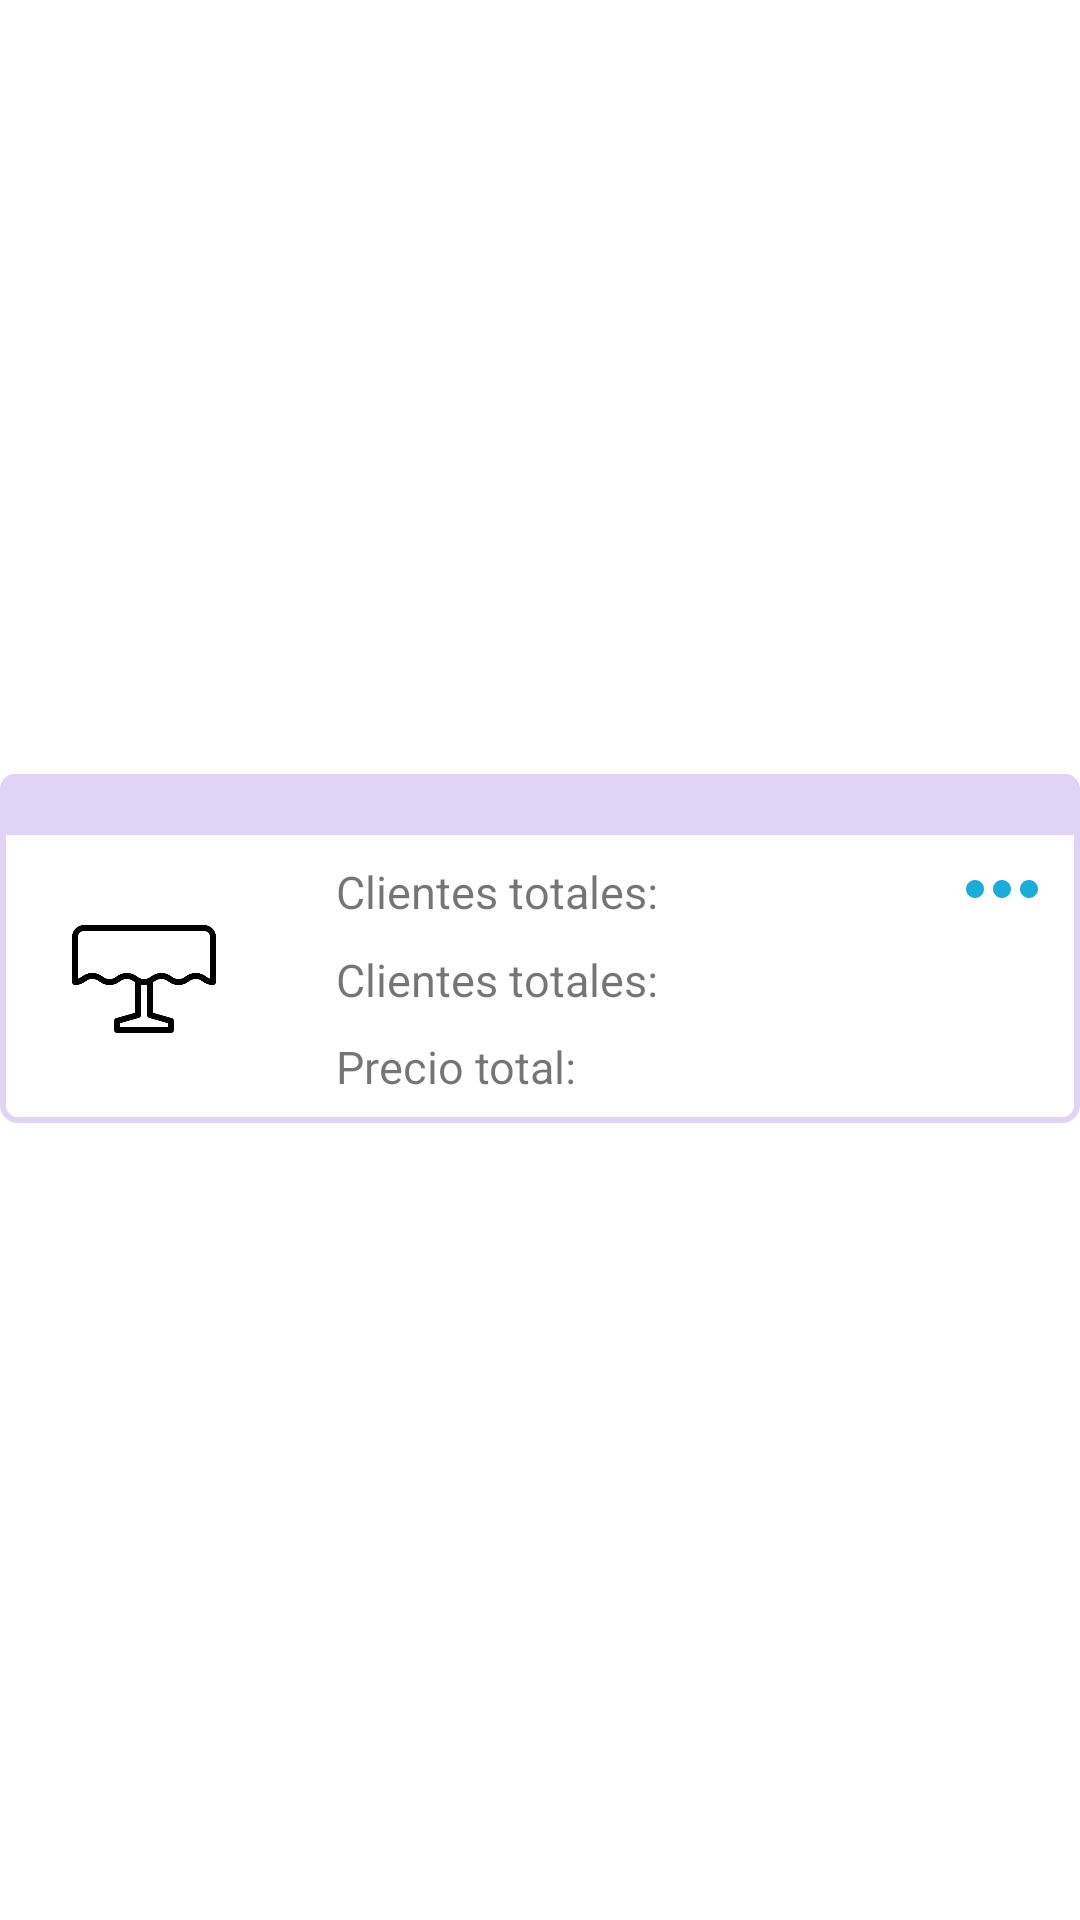

Locate icon controls on the screen. Image size 1080x1920, boxes as (x1, y1, x2, y2).
more horiz: (966, 880, 1038, 898)
table definitive: (72, 925, 216, 1033)
